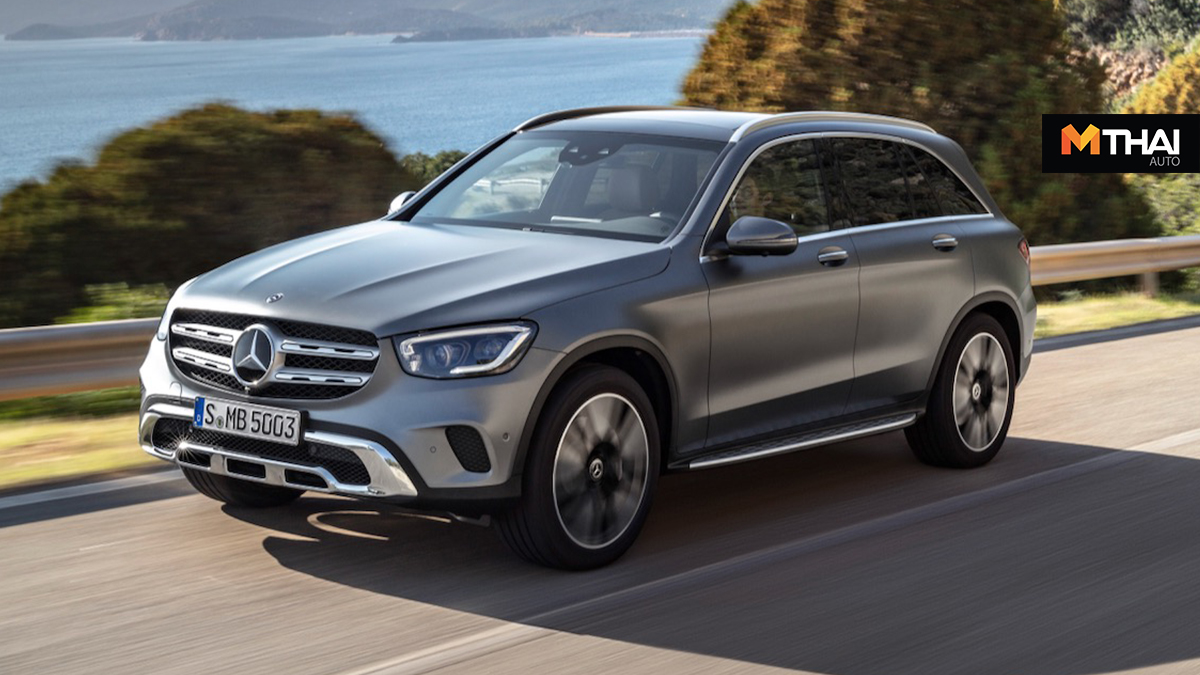pickup: (138, 103, 1038, 569)
